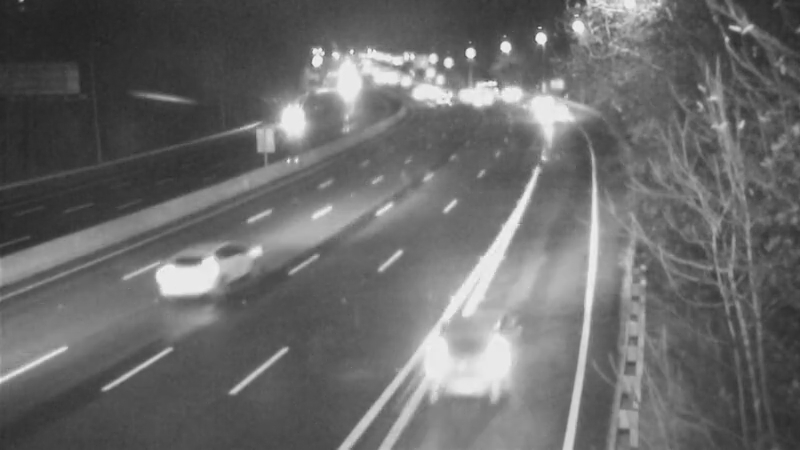vehicle: (406, 314, 516, 424), (144, 238, 224, 318), (462, 62, 512, 112), (394, 70, 444, 120), (490, 63, 540, 113), (451, 74, 501, 124), (512, 77, 562, 127), (412, 76, 462, 126), (521, 88, 571, 138), (260, 94, 310, 144)
